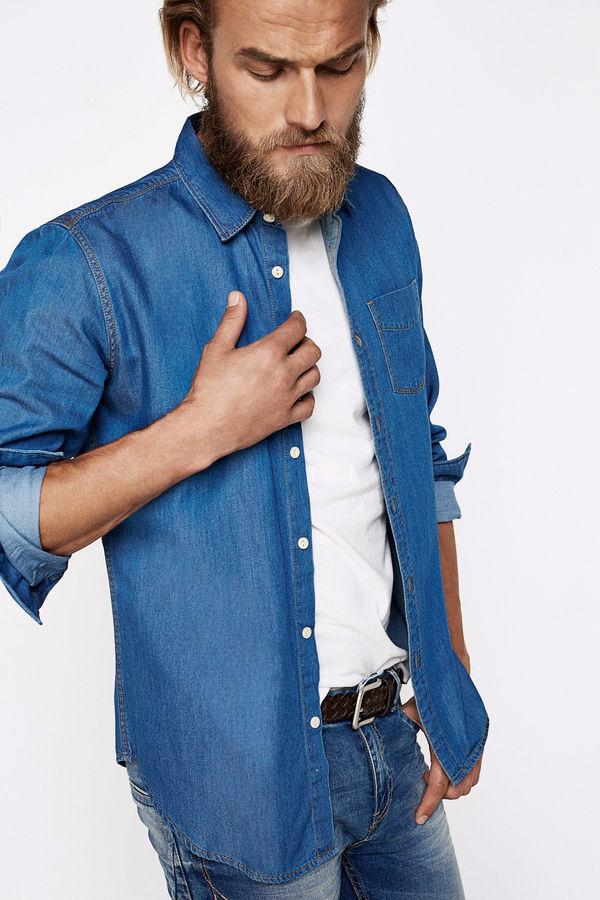teeshirt: (1, 121, 544, 856)
